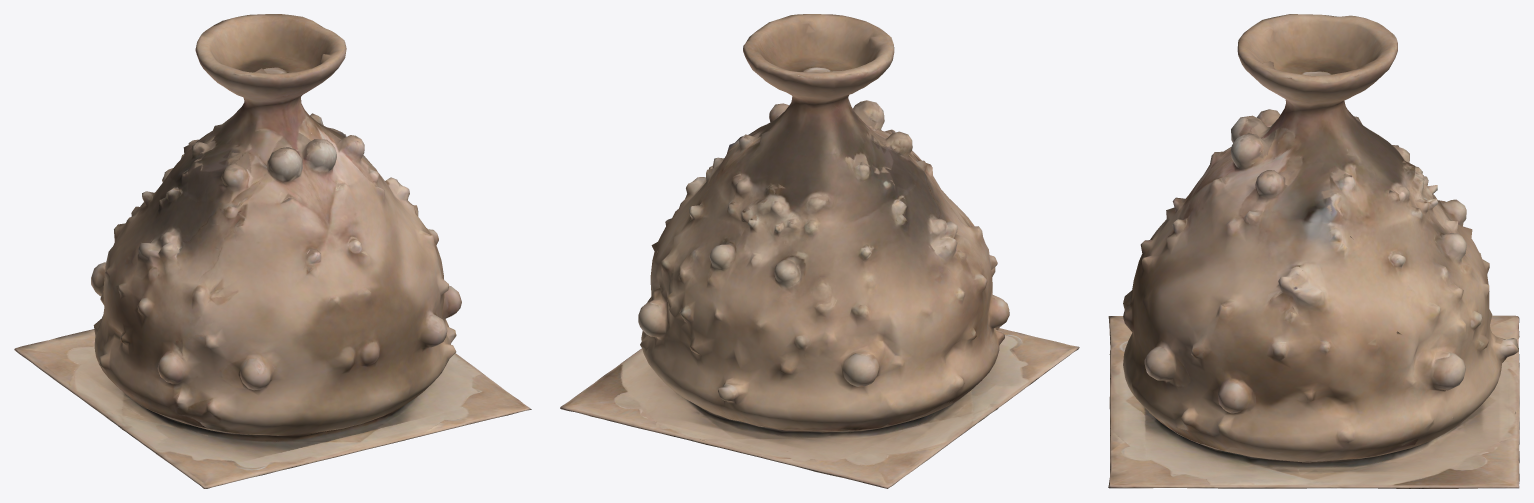
Rendered from obra2.glb.
3 renders of one model, left to right at view 1: azimuth 30°, elevation 25°; view 2: azimuth 150°, elevation 25°; view 3: azimuth 270°, elevation 25°, orthographic. The views are drawn at different scales.
Size of the model in its own units: 1.96 by 1.91 by 1.98.
1 material, 1 textured.
